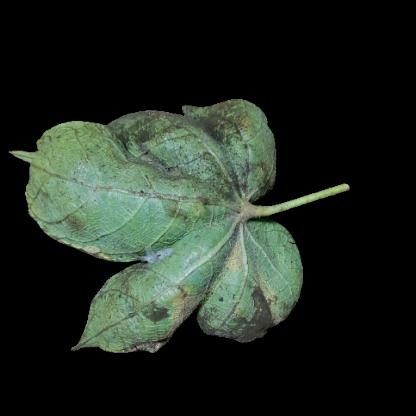curl_stage2: (173, 224, 269, 284), (34, 143, 112, 207), (58, 206, 172, 247), (92, 301, 128, 345)
sooty: (130, 111, 249, 189), (206, 284, 285, 338), (130, 289, 188, 335)
